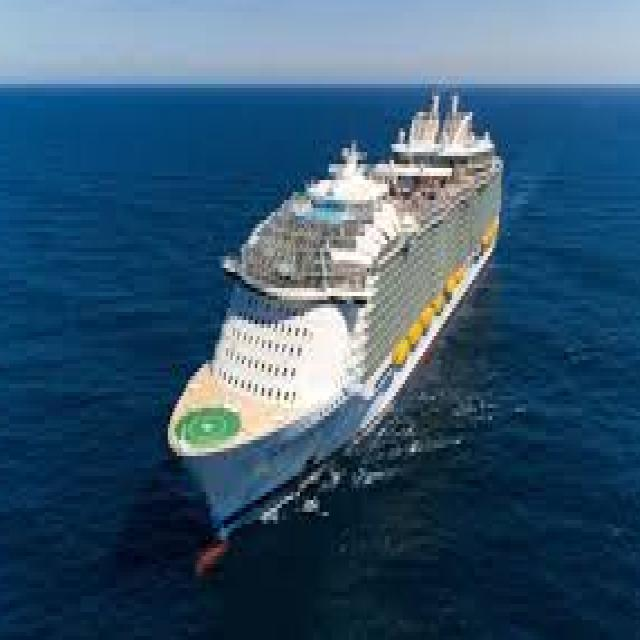passenger ship: (165, 83, 507, 562)
